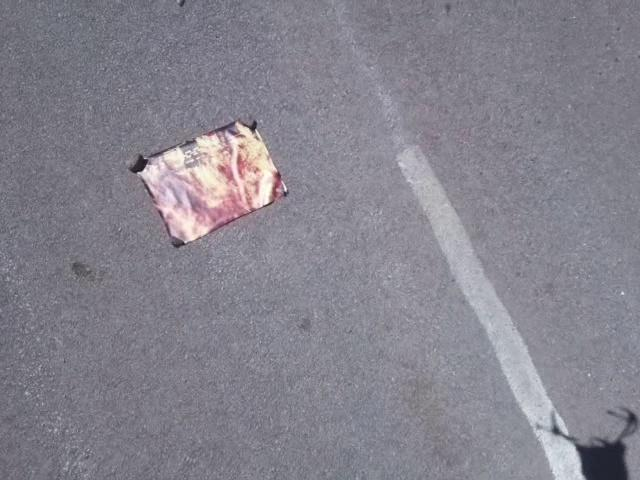fire-poster: (127, 116, 289, 249)
